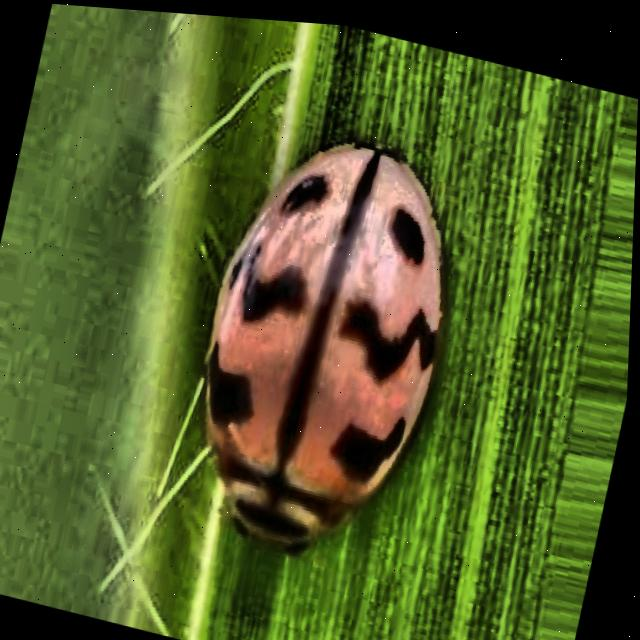Asian-Lady-beetle: (121, 16, 538, 640)
